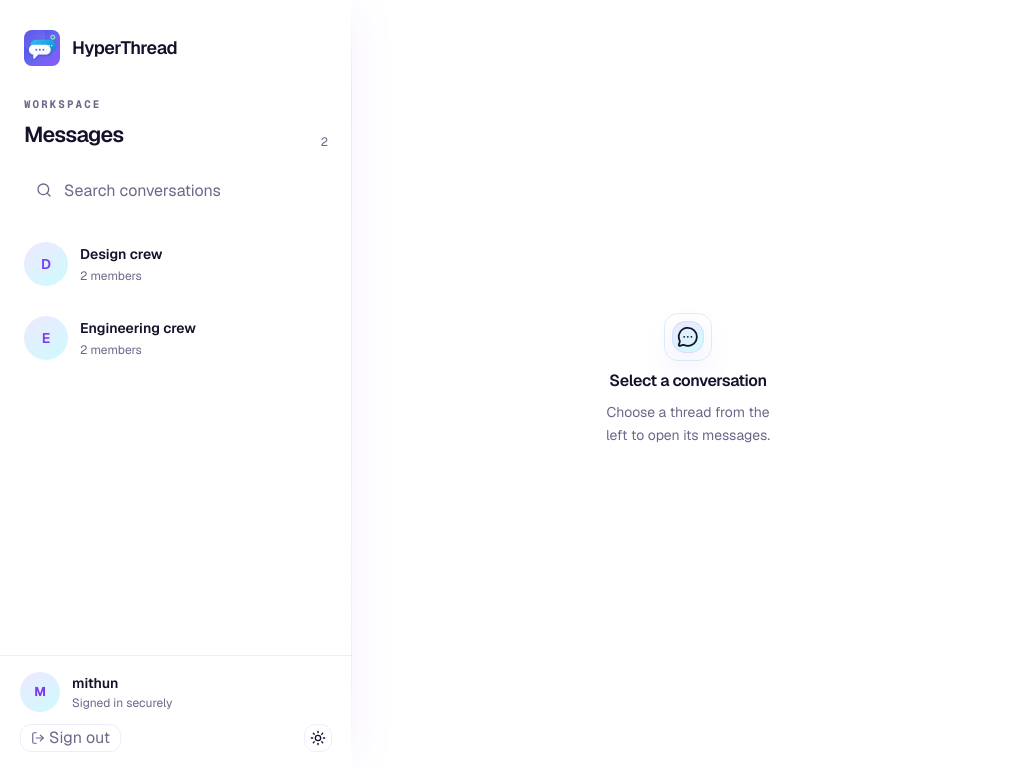
Test case: ChatWorkspace › filters loaded conversations without fabricating results
Step 1. Type "Engineering" into the field labelled "Search conversations" → (176, 190), box [20, 170, 332, 210]
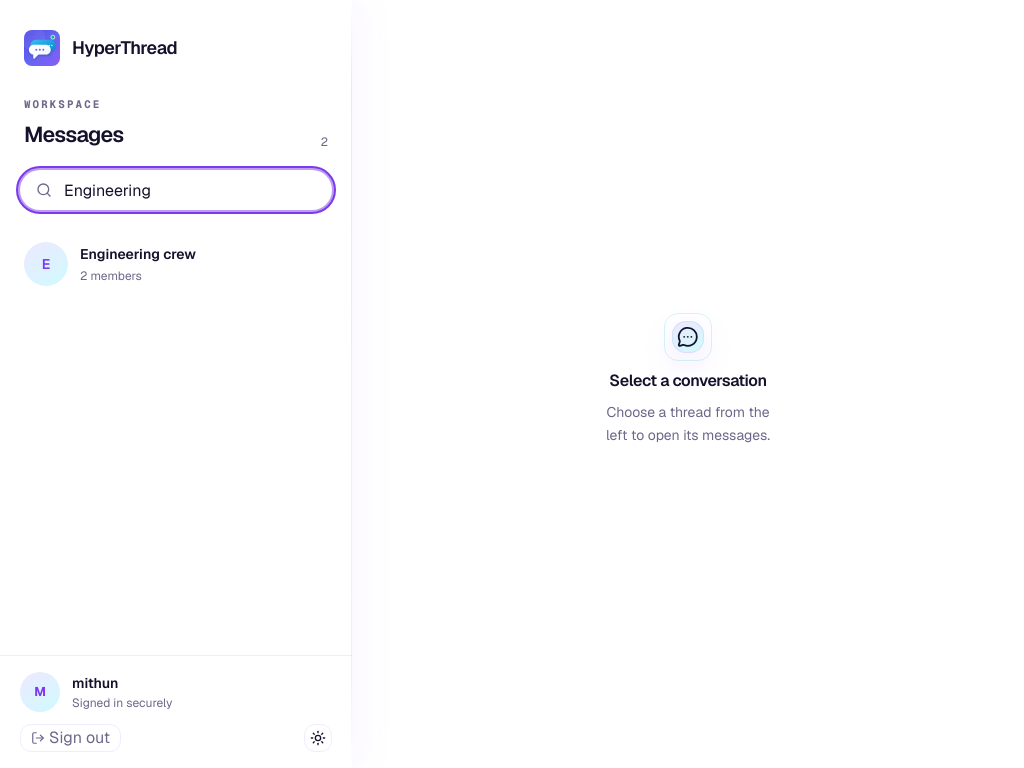
Expected: the button "E Engineering crew 2 members" is shown, [12, 230, 340, 298]
Now the button "Design crew" is gone
